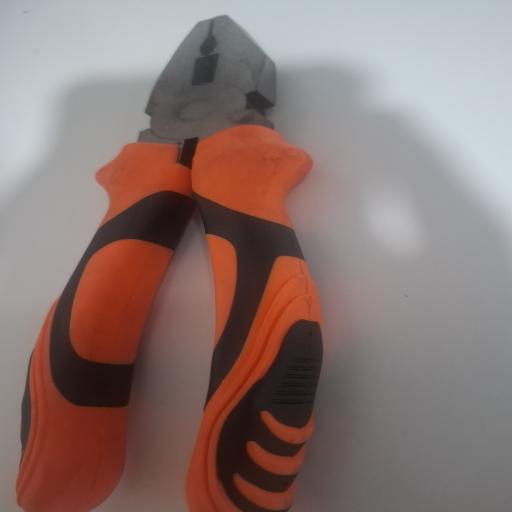alicate: (0, 15, 340, 512)
